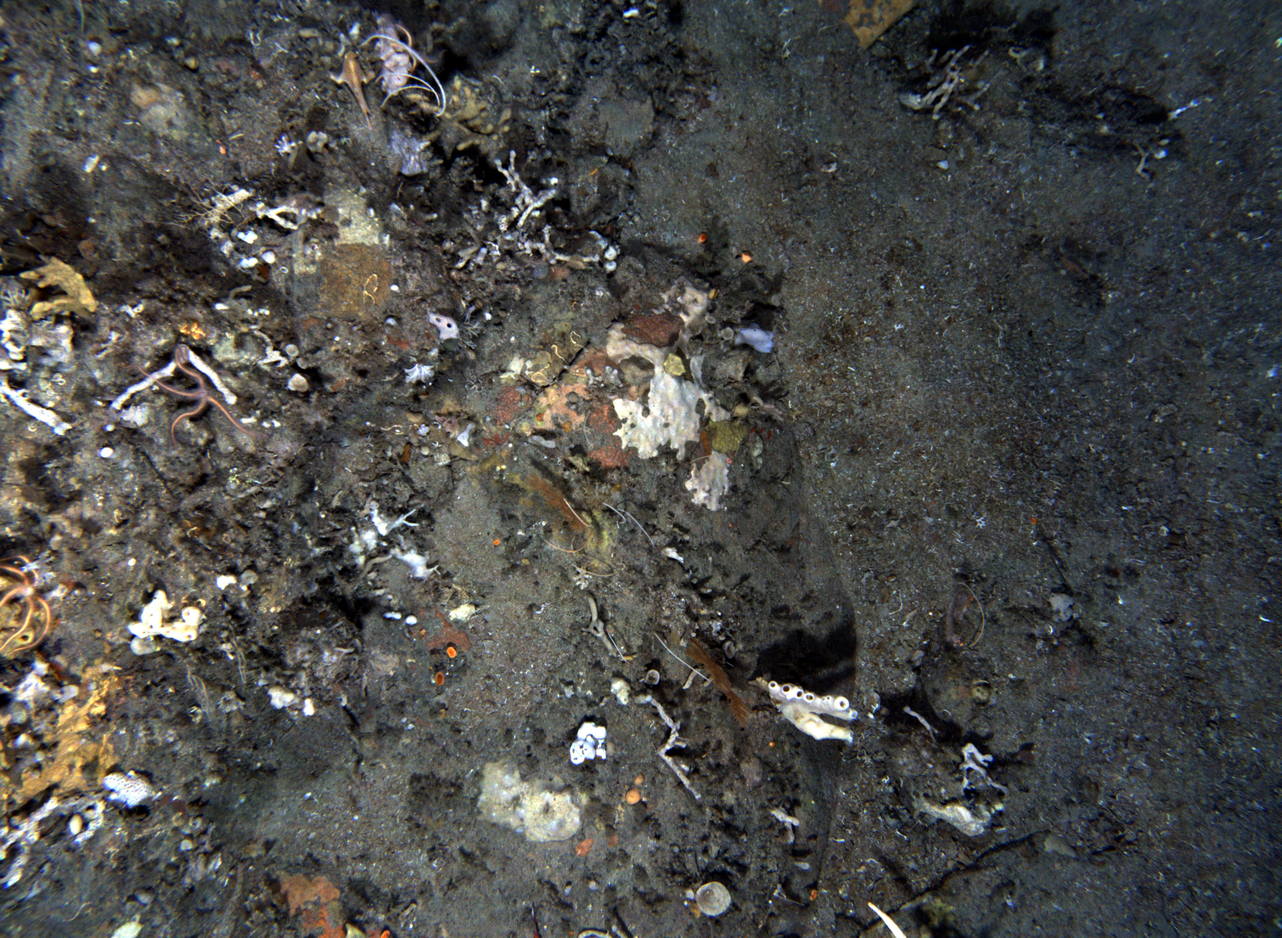Brachionichthyidae: (324, 50, 376, 133)
